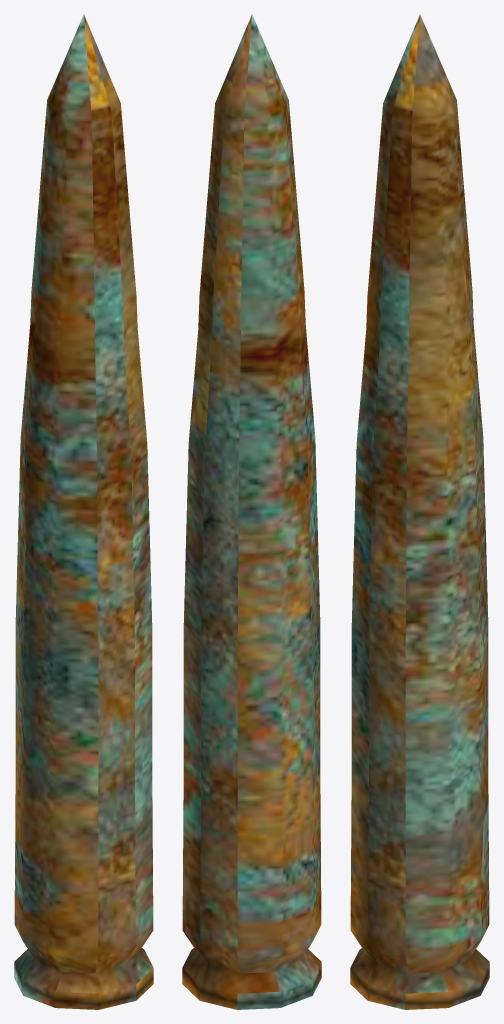
File: bullet.fbx
The picture shows the model from 3 angles, left to right: view 1: azimuth 30°, elevation 25°; view 2: azimuth 150°, elevation 25°; view 3: azimuth 330°, elevation 25°; orthographic projection.
Visible parts, largest first — view 1: bullet; view 2: bullet; view 3: bullet.
Part boxes in pixels (x1,y1,x2,y2): bullet: [14, 14, 153, 1009]; bullet: [182, 14, 321, 1009]; bullet: [350, 14, 489, 1009].
Size of the model in its own units: 0.00523 by 0.0398 by 0.00498.
